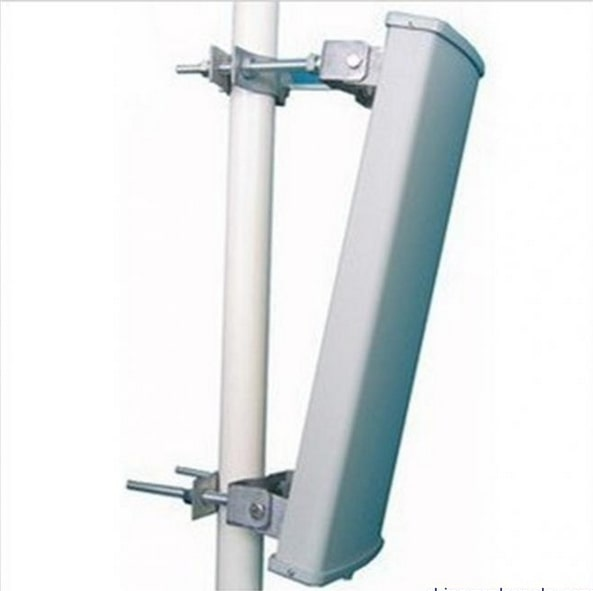sa: (262, 14, 496, 585)
